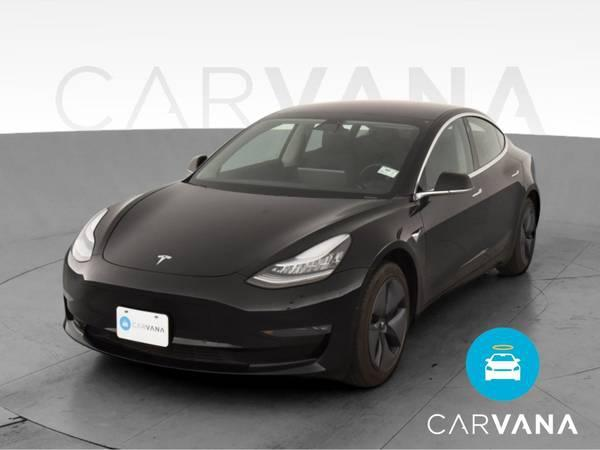Front_Bumper: (58, 254, 364, 382)
Front_Fender: (342, 202, 424, 311)
Front_Left_Door: (419, 176, 487, 304)
Front_Left_Window: (410, 118, 475, 203)
Front_Windshield: (191, 118, 421, 200)
Hood: (93, 182, 403, 278)
Left_Headlight: (248, 234, 352, 289)
Rear_Left_Door: (479, 149, 534, 273)
Rear_Left_Window: (463, 116, 504, 171)
Right_Headlight: (70, 209, 110, 265)
Roof: (261, 99, 482, 200)
Wheel: (356, 259, 412, 377), (518, 197, 541, 267)
